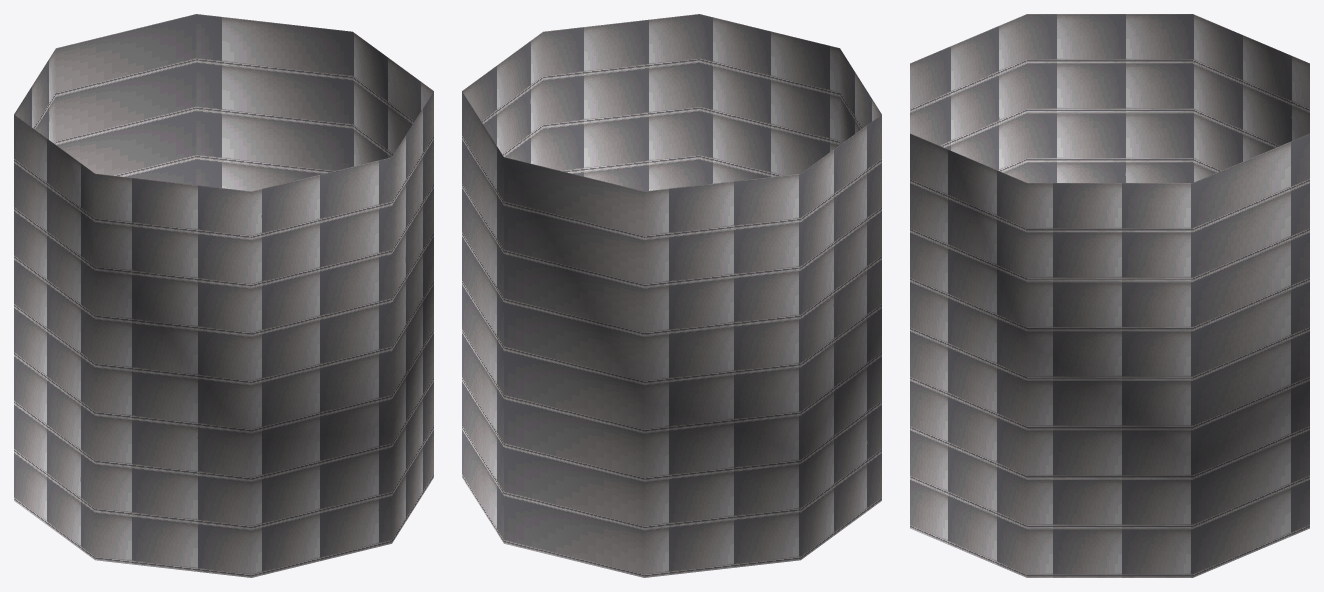
File: 1074item545.gltf
3 views of the same model, side by side, from view 1: azimuth 30°, elevation 25°; view 2: azimuth 150°, elevation 25°; view 3: azimuth 270°, elevation 25° (orthographic). The views are drawn at different scales.
Visible parts, largest first — view 1: 1074item545; view 2: 1074item545; view 3: 1074item545.
Boxes of the visible parts, <box> form: 1074item545: <box>14,14,433,577</box>; 1074item545: <box>462,14,881,577</box>; 1074item545: <box>910,14,1309,577</box>.
Bounding box in the file's own units: 0.4297 × 0.5266 × 0.4297.
Materials: 1 (1 with a texture image).
